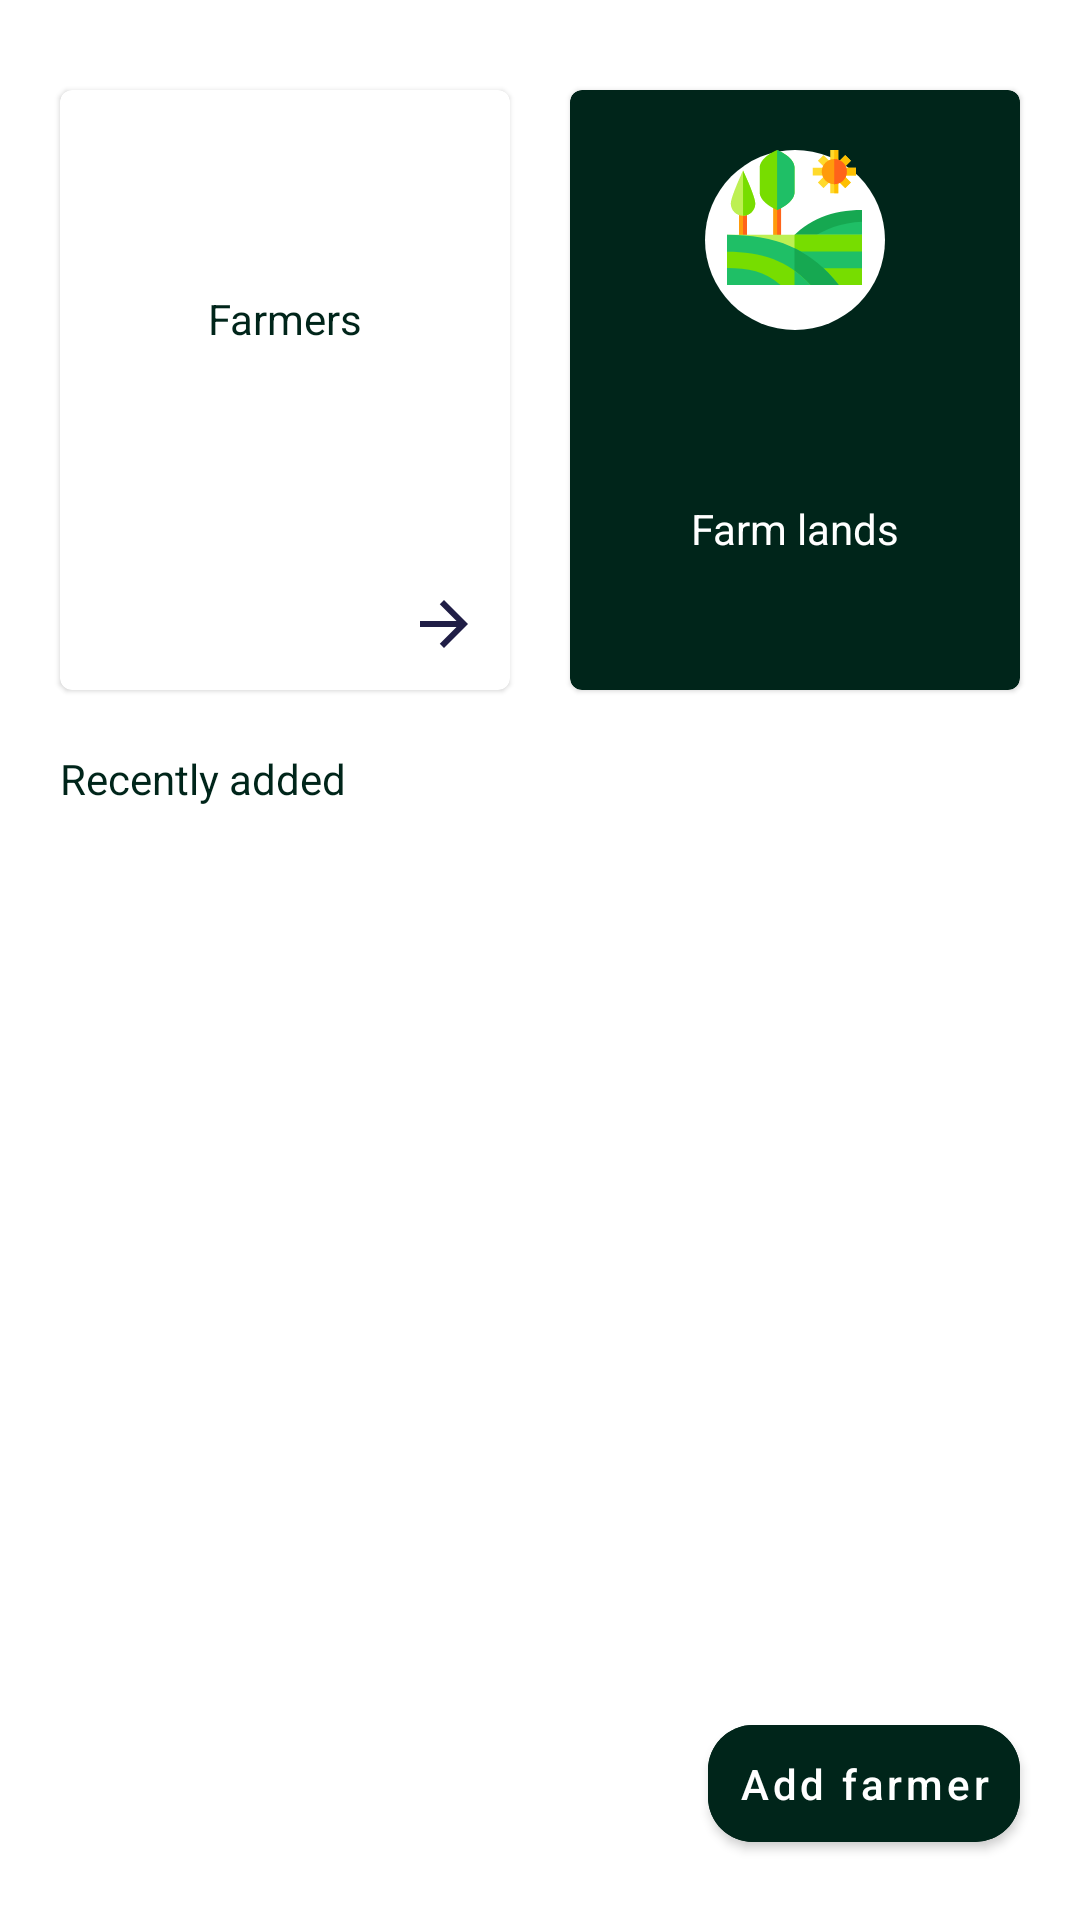

Where to tap for icons on this 1080px×1920px app screen, as (x,y):
arrow forward: (444,624)
